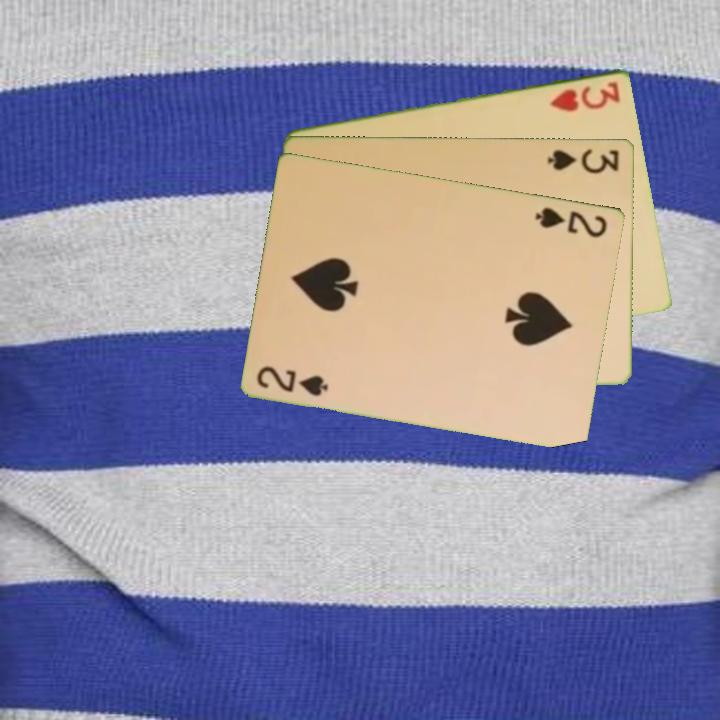2s: (532, 203, 611, 241), (254, 362, 332, 399)
3h: (546, 77, 623, 114)
3s: (544, 144, 622, 176)
